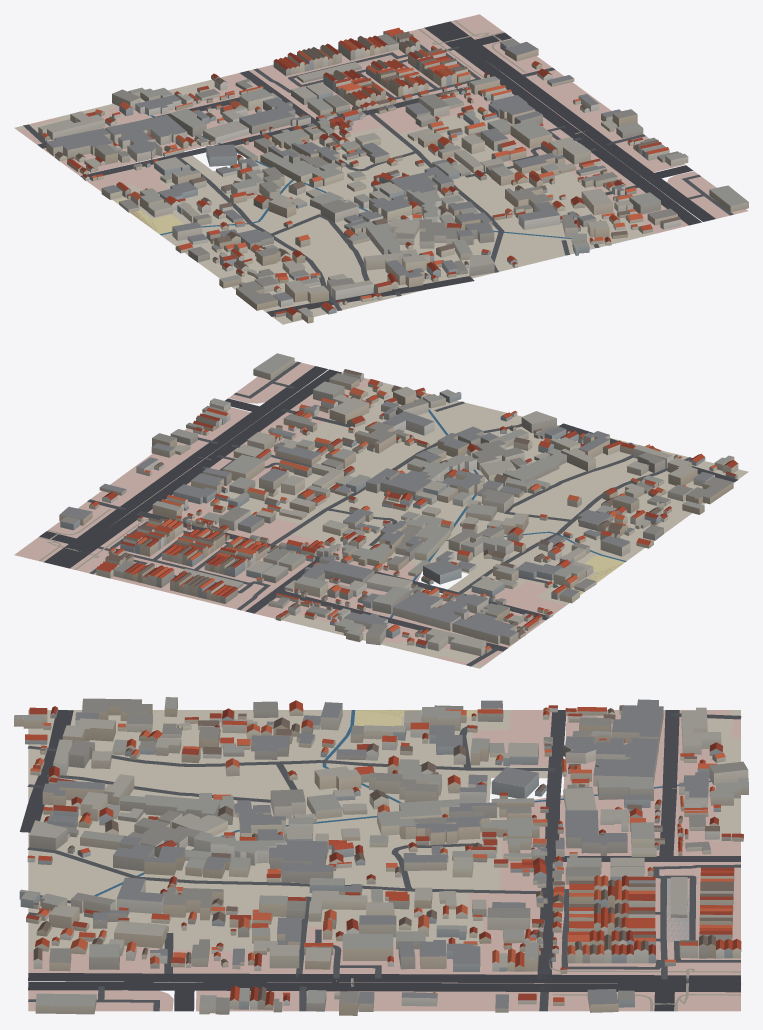
3 views of the same model, one above another, from view 1: azimuth 30°, elevation 25°; view 2: azimuth 150°, elevation 25°; view 3: azimuth 270°, elevation 25° (orthographic). The views are drawn at different scales.
Visible parts, largest first — view 1: buildings_roofs, buildings_walls, landuse, roads; view 2: buildings_roofs, buildings_walls, landuse, roads; view 3: buildings_roofs, landuse, buildings_walls, roads, water.
Part boxes in pixels (left/top/right/bottom): buildings_roofs: left=39, top=27, right=748, bottom=317; buildings_walls: left=38, top=31, right=748, bottom=323; landuse: left=14, top=14, right=747, bottom=324; roads: left=23, top=20, right=733, bottom=316; buildings_roofs: left=59, top=353, right=737, bottom=650; buildings_walls: left=59, top=358, right=738, bottom=656; landuse: left=14, top=361, right=748, bottom=668; roads: left=38, top=361, right=738, bottom=666; buildings_roofs: left=14, top=697, right=748, bottom=1010; landuse: left=28, top=710, right=740, bottom=1011; buildings_walls: left=14, top=700, right=748, bottom=1015; roads: left=20, top=709, right=741, bottom=1011; water: left=94, top=710, right=711, bottom=896.
Bounding box in the file's own units: 515 × 11.34 × 515.
